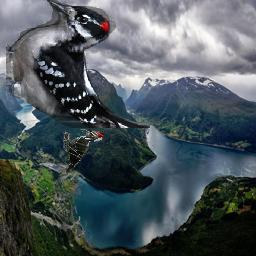Woodpecker: (6, 0, 150, 128), (64, 129, 105, 173)
